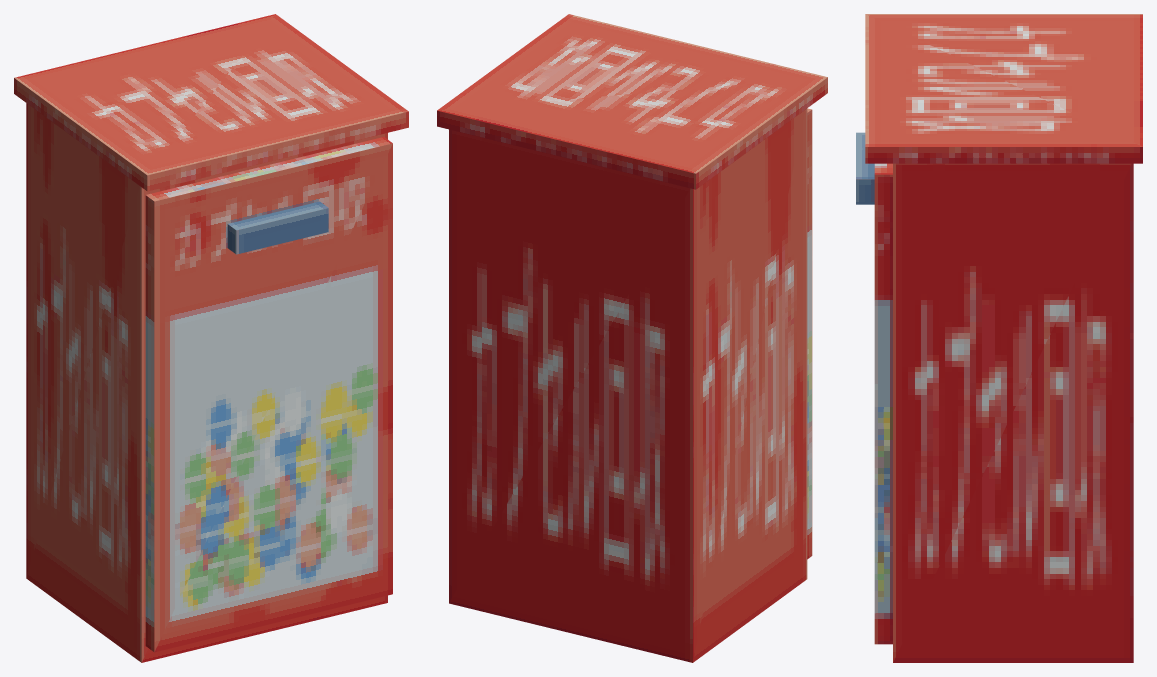
Rendered from capsulereturn.glb.
The picture shows the model from 3 angles, left to right: view 1: azimuth 30°, elevation 25°; view 2: azimuth 150°, elevation 25°; view 3: azimuth 270°, elevation 25°; orthographic projection. The views are drawn at different scales.
Visible parts, largest first — view 1: mesh; view 2: mesh; view 3: mesh.
Boxes of the visible parts, x1,y1,x2,y2 form: mesh: (14,14,408,662); mesh: (437,14,827,662); mesh: (856,14,1142,662).
Size of the model in its own units: 0.34 by 0.62 by 0.31.
Materials: 1 (1 with a texture image).
